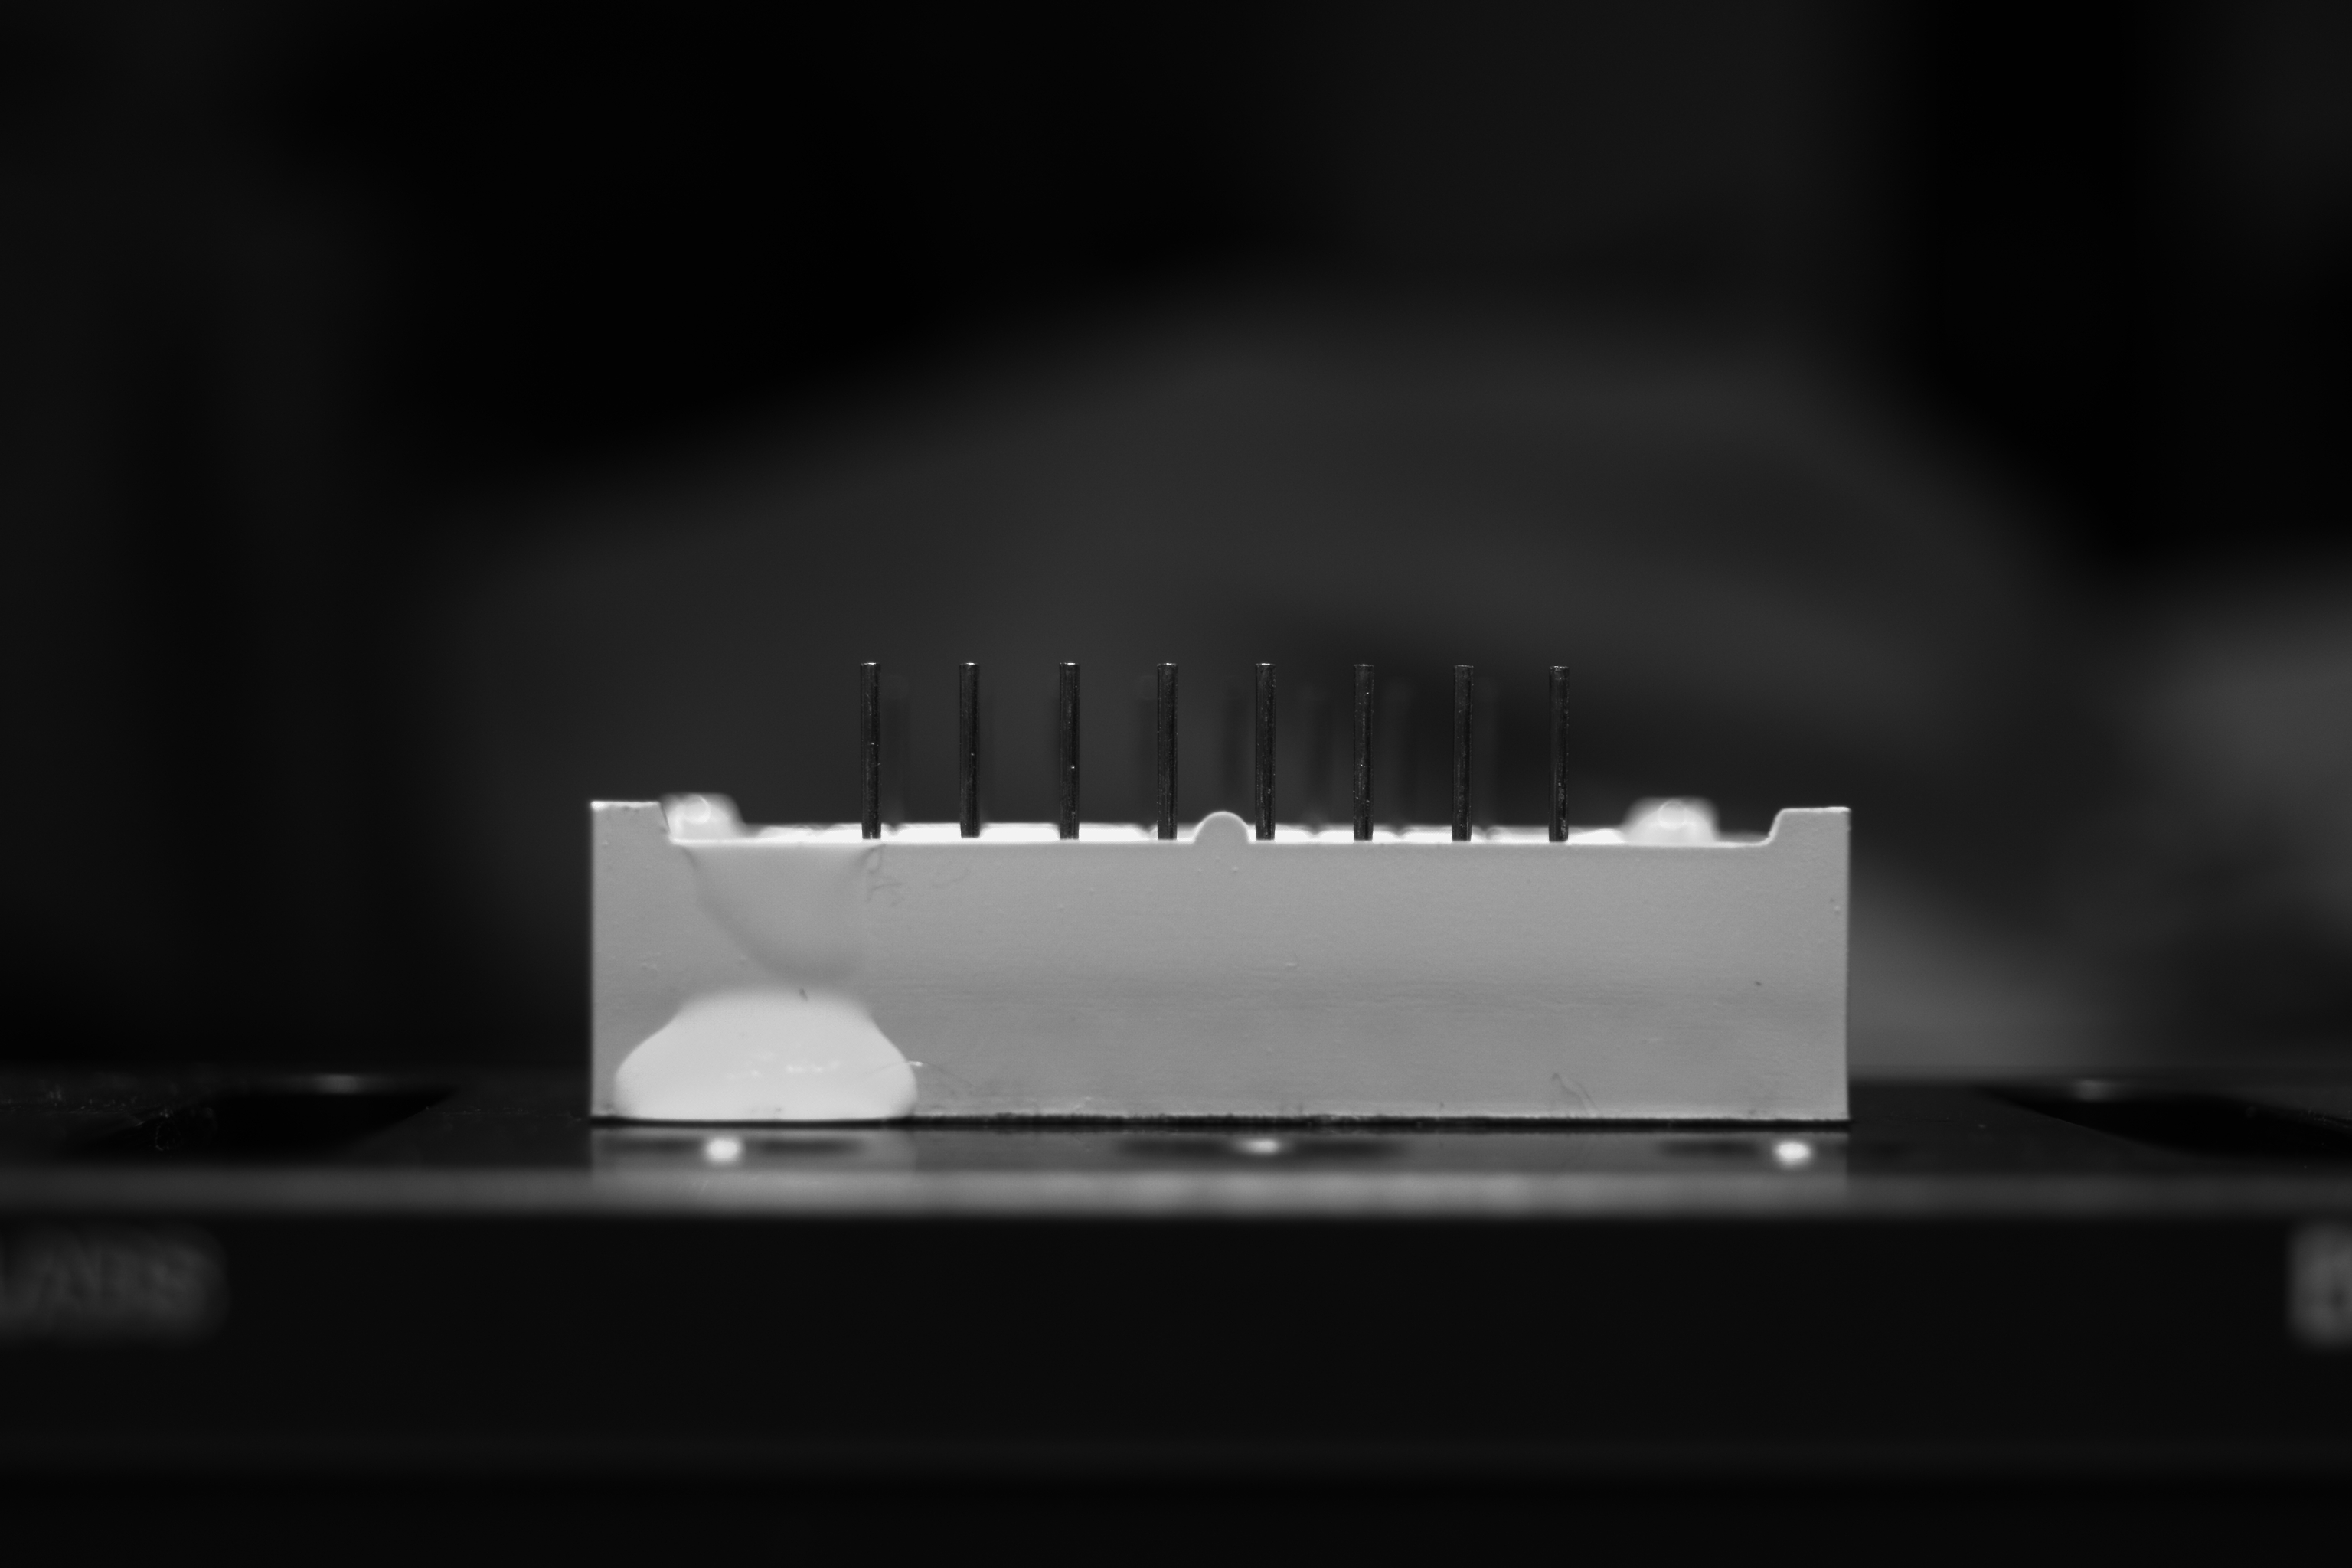Component: (586, 649, 1858, 1129)
